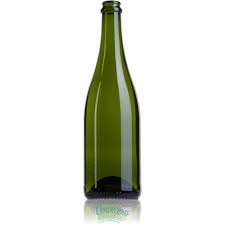botella: (83, 1, 142, 200)
